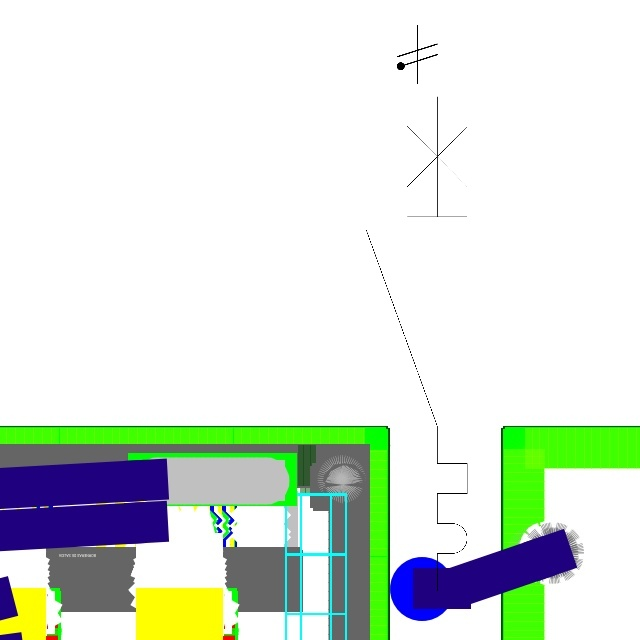interruptor_termomagnetico: (353, 83, 480, 604)
